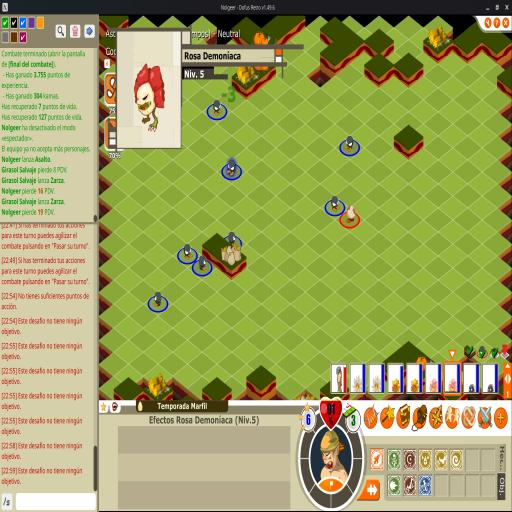Enemigos: (344, 134, 356, 152), (226, 230, 238, 247), (212, 99, 223, 116), (182, 243, 193, 260), (330, 195, 340, 213), (198, 254, 208, 272), (226, 160, 237, 176), (152, 291, 162, 308)
Personaje: (346, 204, 356, 224)
